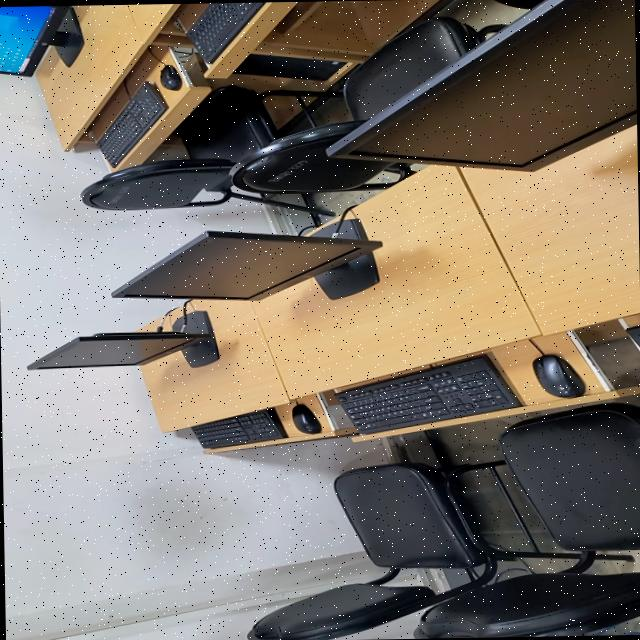Chair: (83, 16, 506, 209), (251, 459, 633, 640), (81, 84, 339, 209), (499, 402, 640, 550), (413, 569, 640, 638)
Cpu: (233, 53, 344, 79)
Keyboard: (336, 353, 521, 433), (97, 80, 168, 166), (187, 1, 265, 62), (192, 408, 285, 447)
Monitor: (328, 0, 637, 170), (112, 217, 381, 299), (27, 310, 218, 368), (0, 4, 83, 75)
Mouse: (532, 353, 584, 397), (291, 403, 321, 433), (160, 64, 181, 89)
